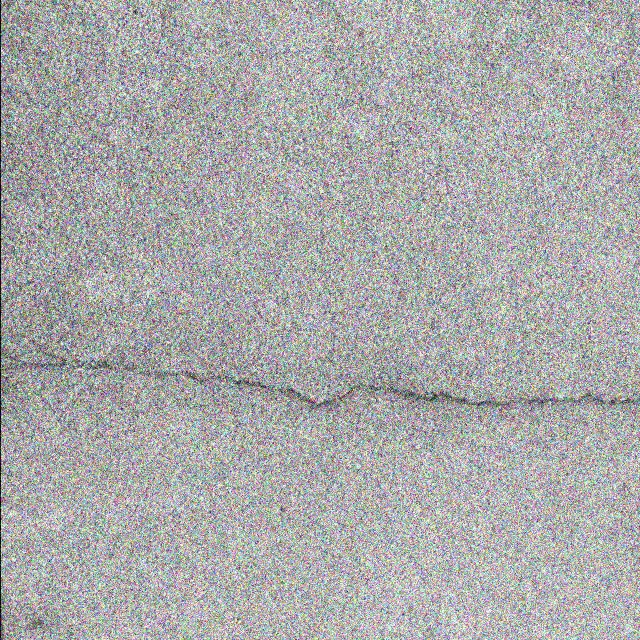SurfaceCrack: (0, 298, 639, 466)
